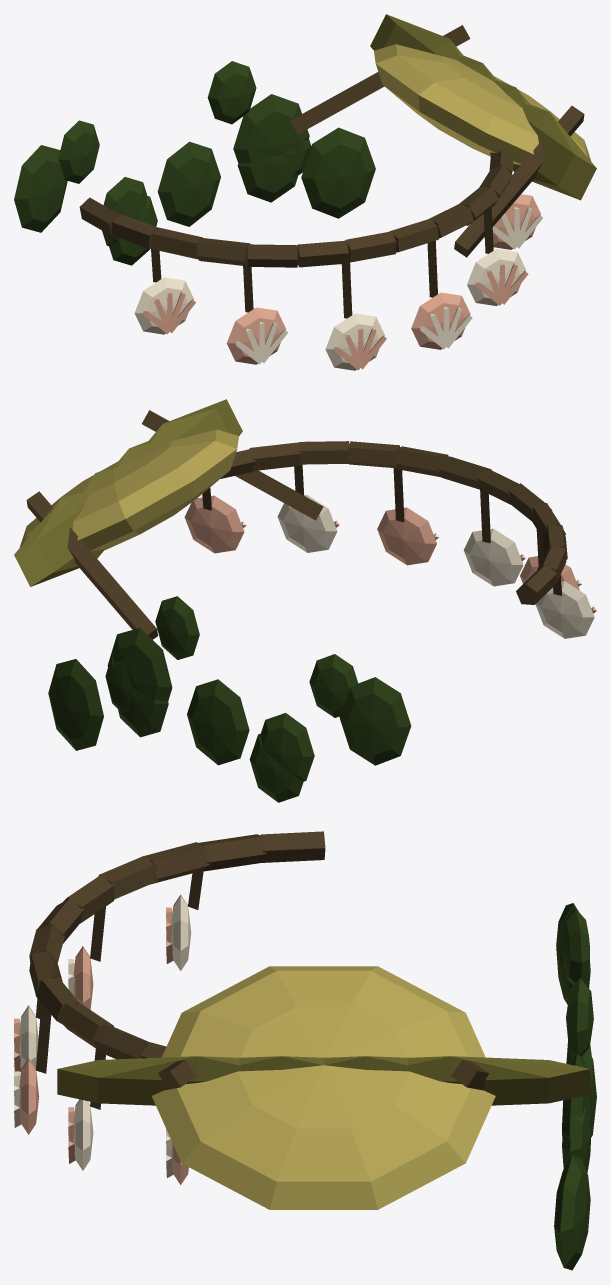
File: pondkin_chest.glb
3 renders of one model, top to bottom at view 1: azimuth 30°, elevation 25°; view 2: azimuth 150°, elevation 25°; view 3: azimuth 270°, elevation 25°, orthographic. The views are drawn at different scales.
Visible parts, largest first — view 1: pondkin_chest; view 2: pondkin_chest; view 3: pondkin_chest.
Boxes of the visible parts, x1,y1,x2,y2 form: pondkin_chest: (14,14,596,370); pondkin_chest: (14,399,596,802); pondkin_chest: (14,831,596,1270).
Bounding box in the file's own units: 1.02 × 0.4506 × 0.8298.
